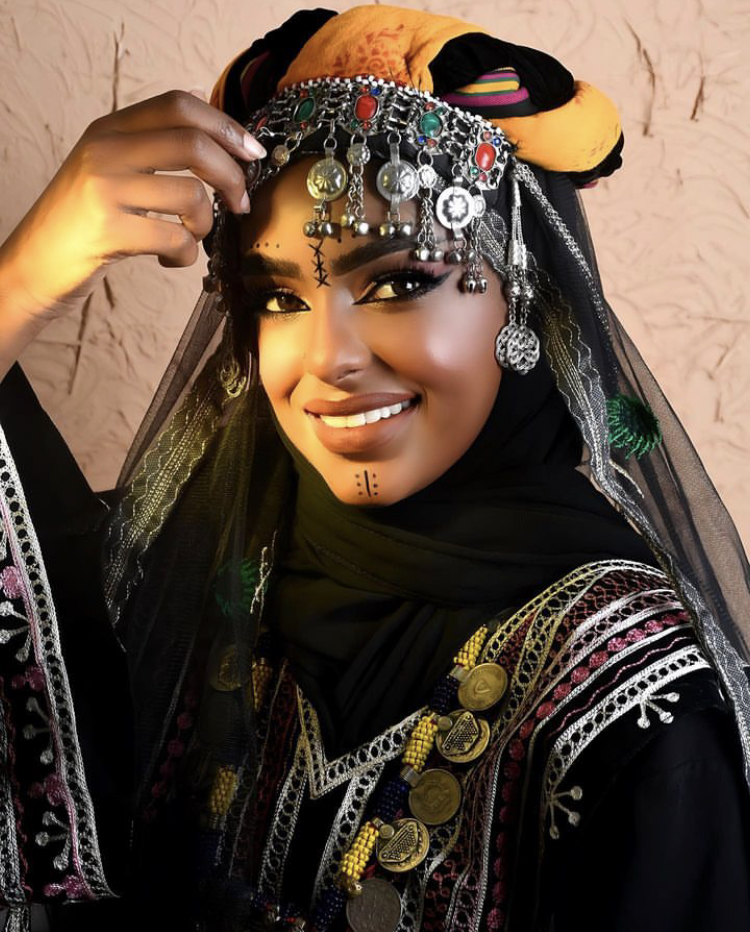Saudi_Founding_Day: (1, 5, 750, 932)
